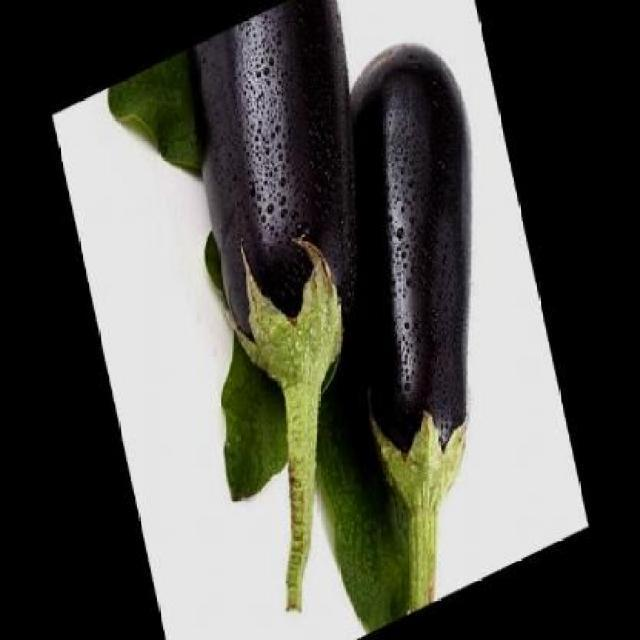eggplant: (166, 0, 457, 622), (287, 18, 558, 616)
